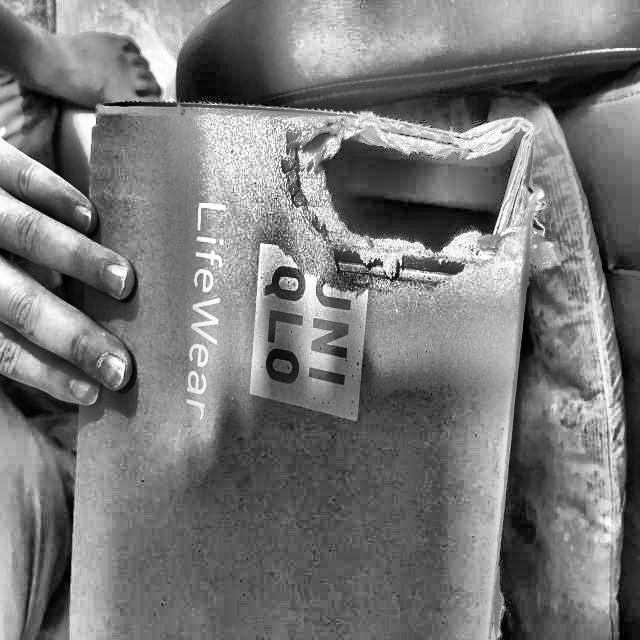box: (43, 90, 554, 640)
hole: (292, 109, 540, 258)
